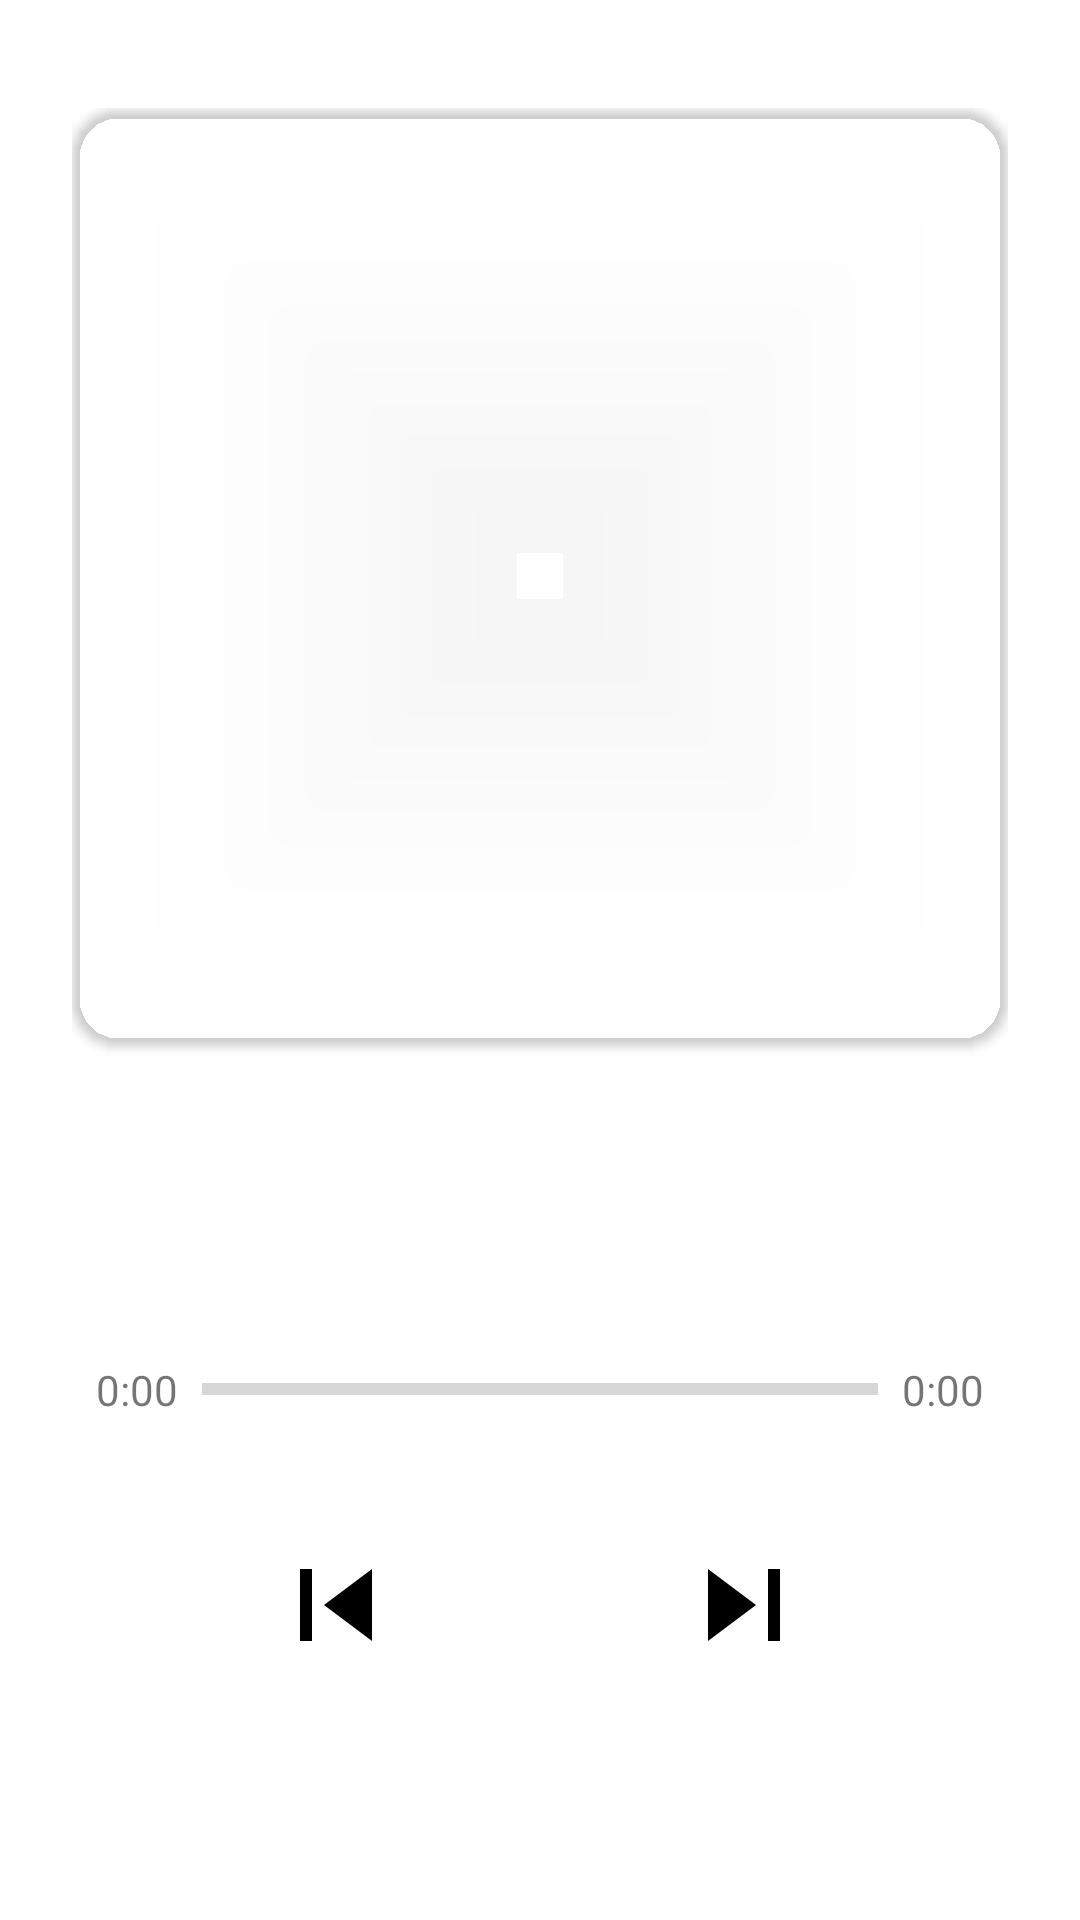

Named icons in this screenshot (1080w x 1920h) and their centers, (x,y):
next: (744,1605)
prev: (336,1605)
